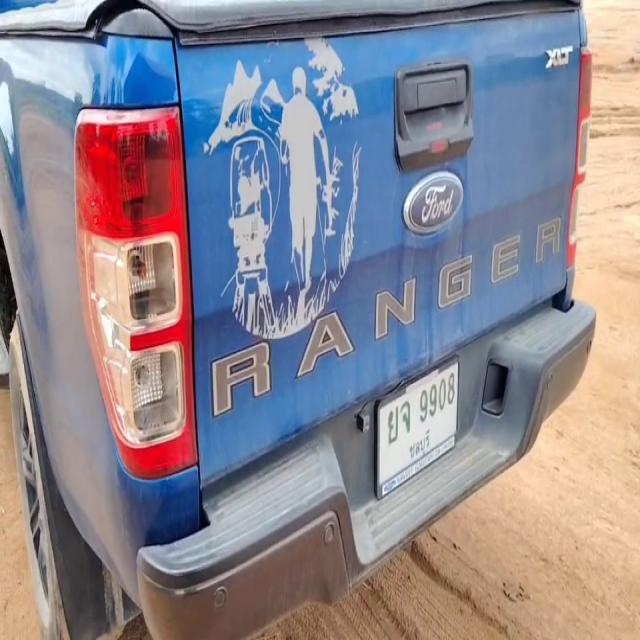Digit: (419, 364, 455, 427)
Licenseplate: (375, 353, 461, 502)
Provincename: (408, 425, 433, 468)
Thaichar: (385, 389, 414, 454)
